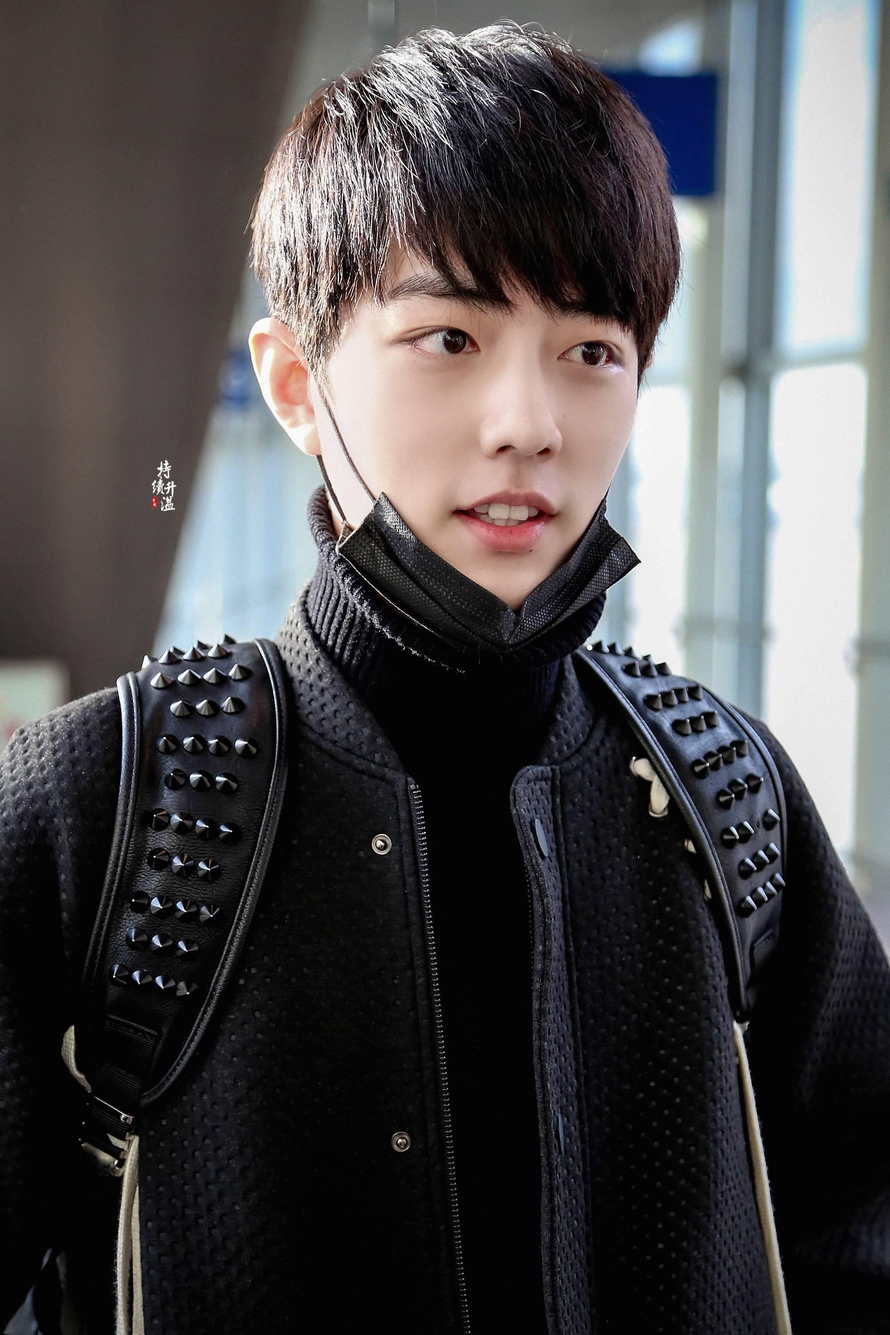WRONG: (339, 239, 659, 606)
